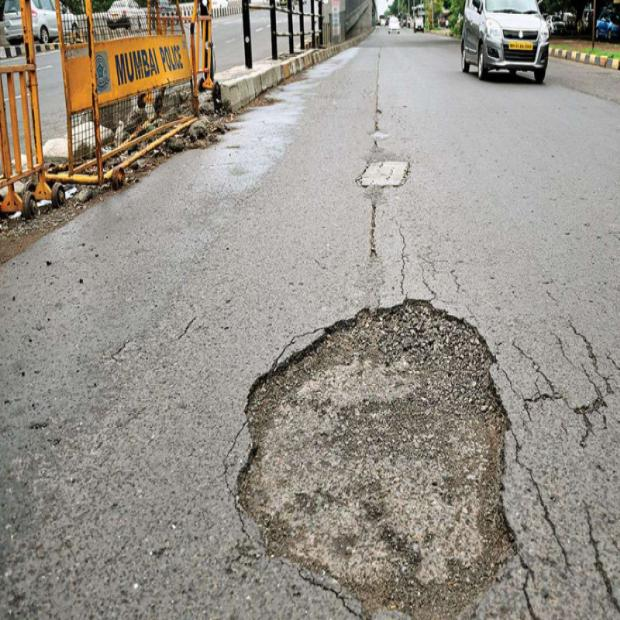lubang: (239, 302, 509, 619)
